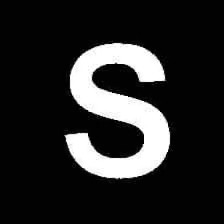LTR_S: (57, 37, 176, 184)
